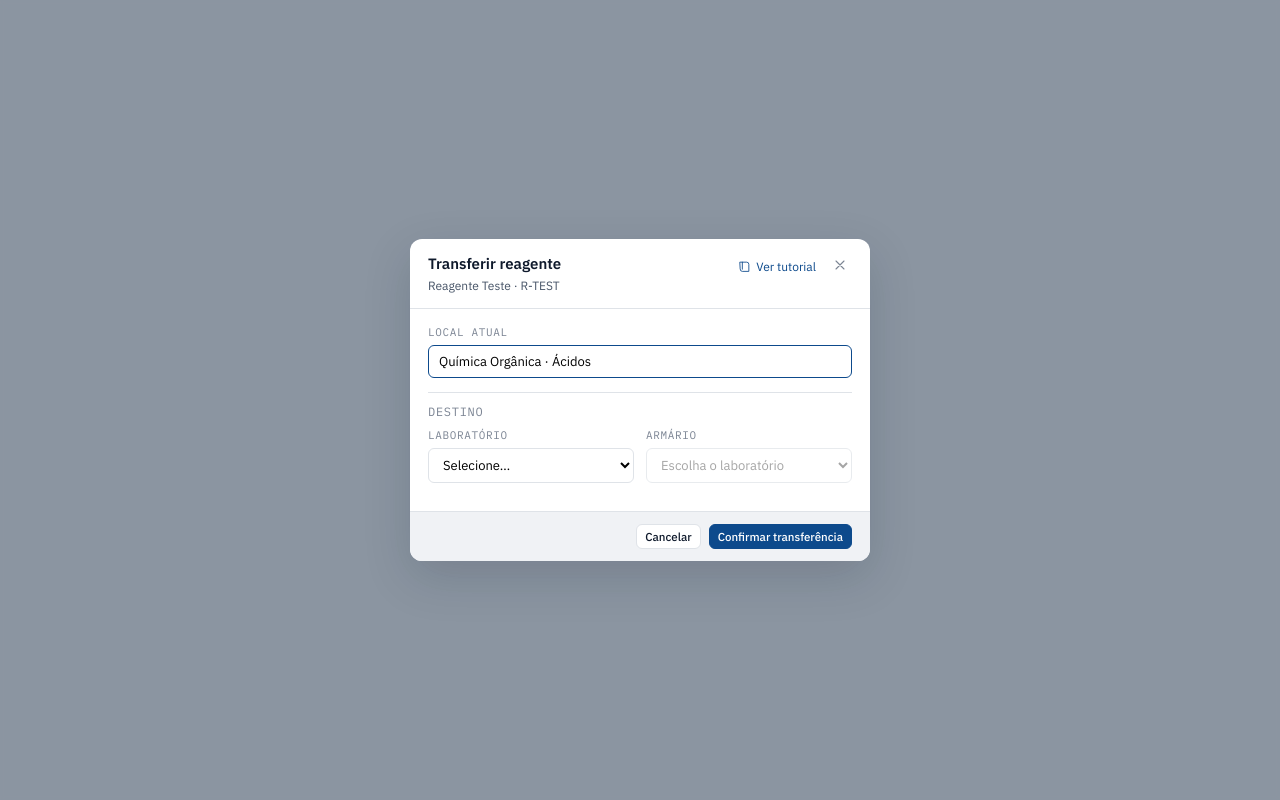
FormTransferirReagente › recusa, sem enviar, o destino igual ao local atual
Step 1. Select "Química Orgânica" in the dropdown labelled "Laboratório" → point(531, 466), box left=428, top=448, right=634, bottom=483
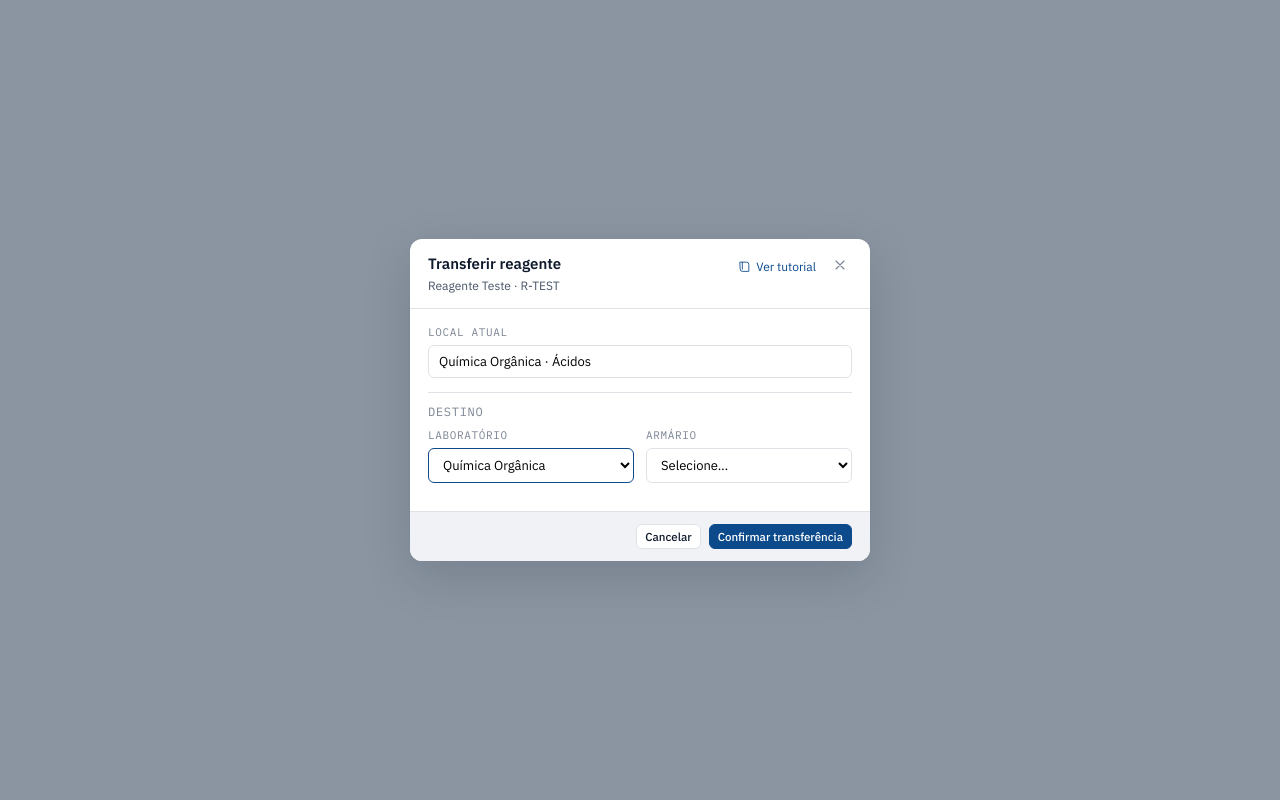
Step 2. Select "Ácidos" in the dropdown labelled "Armário" → point(749, 466), box left=646, top=448, right=852, bottom=483
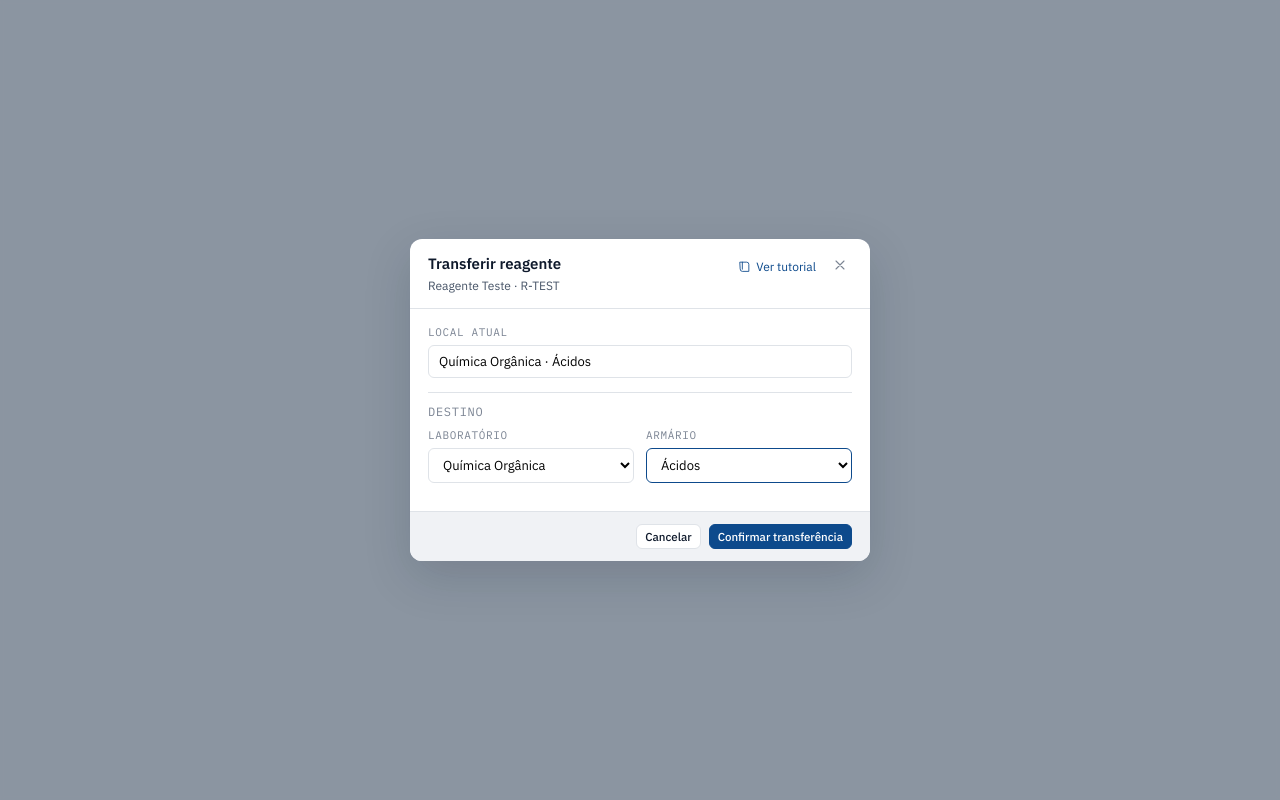
Step 3. Click the button "Confirmar transferência" → point(780, 537), box left=709, top=524, right=852, bottom=549
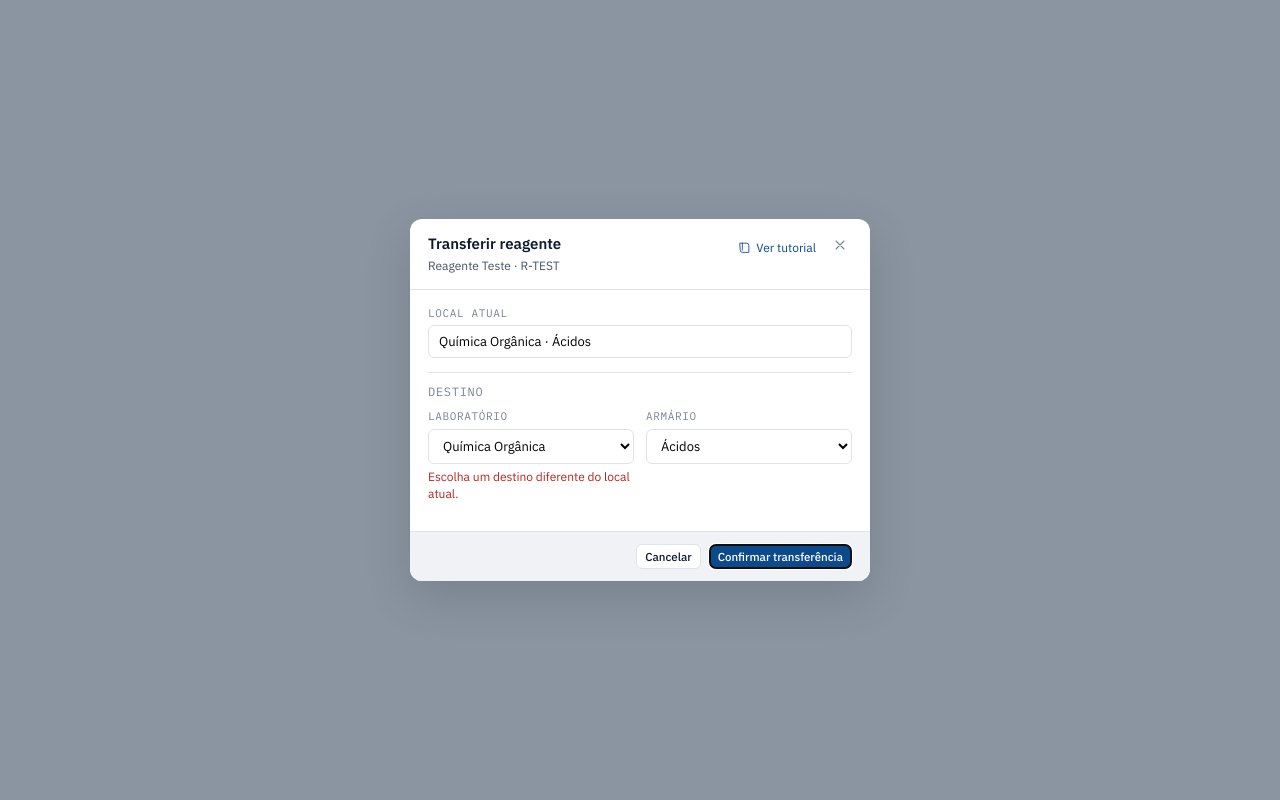
expect the text "Escolha um destino diferente do local atual." is shown: met, box left=428, top=468, right=634, bottom=503
